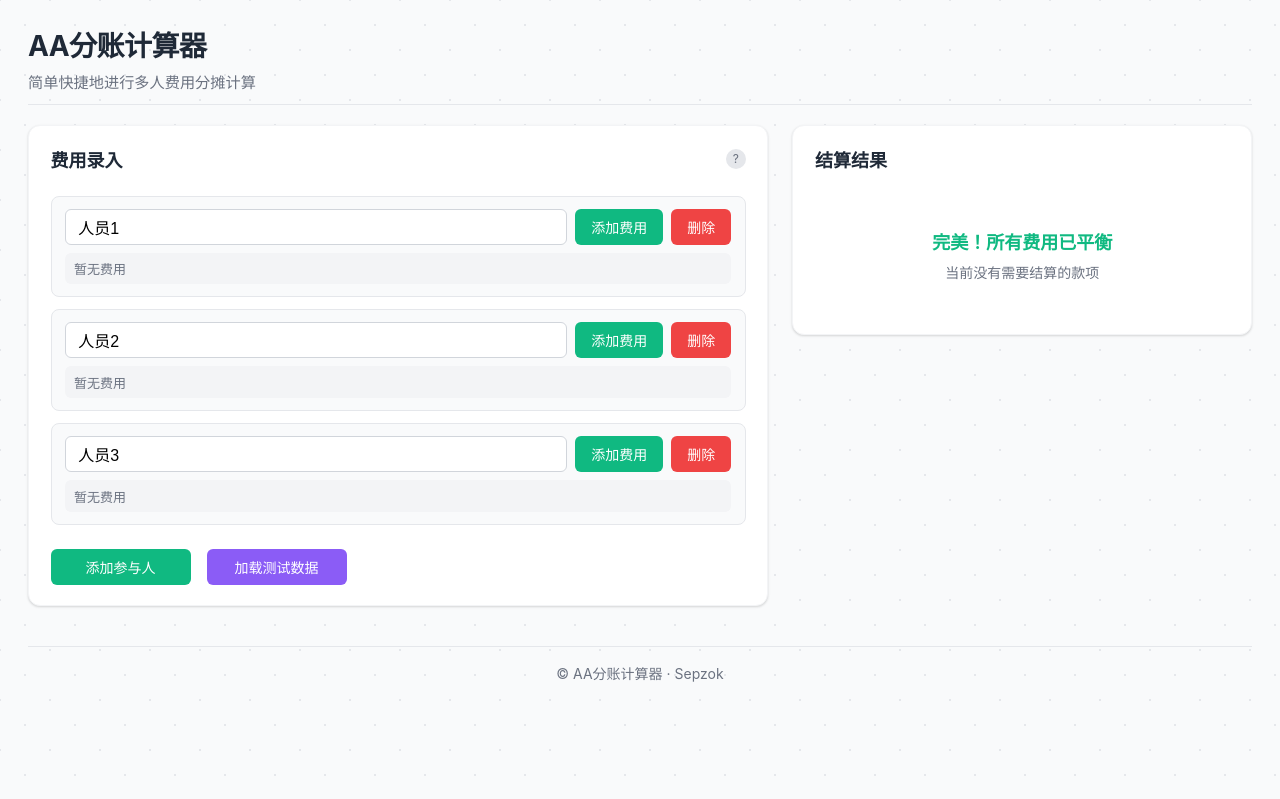
it: AA分账计算器 - 综合测试 › 应该能够正确计算结算结果
#  先添加测试数据
Click the button with class "load-test-data-btn".
click(277, 567)  # box [207,549,347,585]
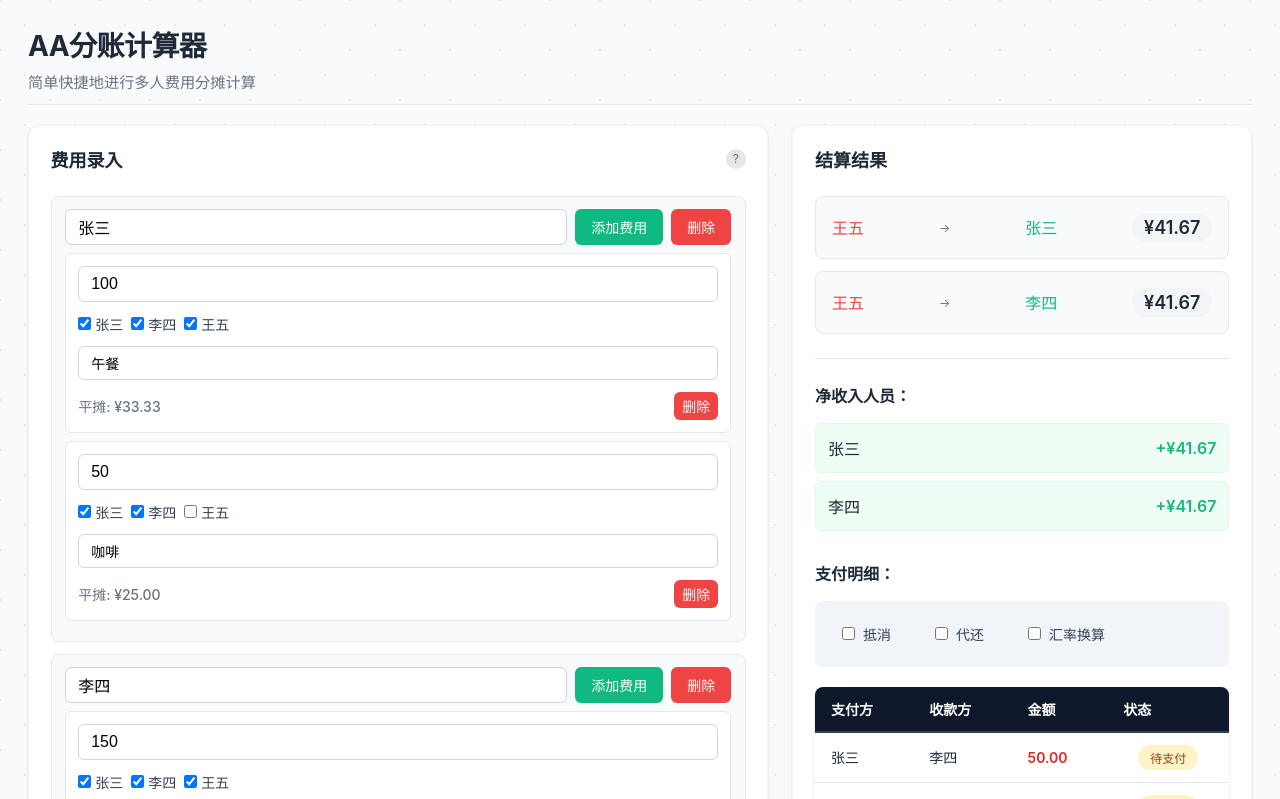
Expected: the number of elements with class "transfer-row" is at least 1
